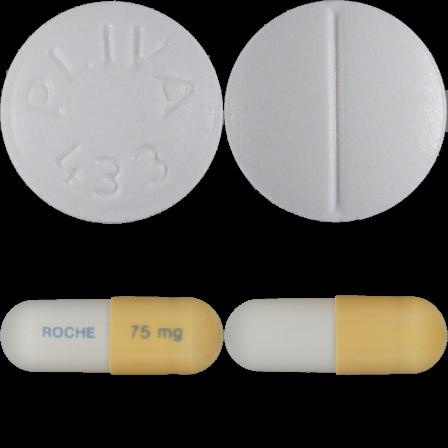55045-1715: (0, 0, 224, 224)
